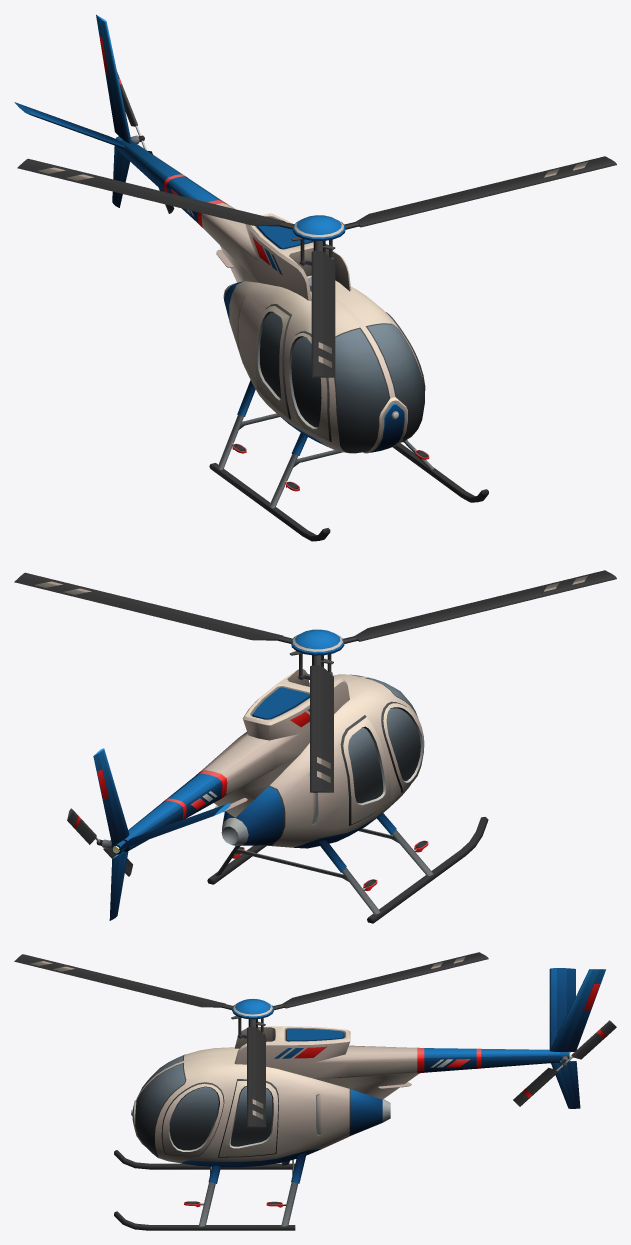
File: Service_Helicopter_1A.fbx
3 renders of one model, top to bottom at view 1: azimuth 30°, elevation 25°; view 2: azimuth 150°, elevation 25°; view 3: azimuth 270°, elevation 25°, orthographic. The views are drawn at different scales.
Parts seen in each view (by area): view 1: Service_Helicopter_1A, Main_Rotor_2A; view 2: Service_Helicopter_1A, Main_Rotor_2A, Tail_Rotor_2A; view 3: Service_Helicopter_1A, Main_Rotor_2A, Tail_Rotor_2A.
Part boxes in pixels (bbox=[...]): Service_Helicopter_1A: bbox=[14, 14, 488, 541]; Main_Rotor_2A: bbox=[17, 156, 616, 377]; Service_Helicopter_1A: bbox=[93, 669, 488, 923]; Main_Rotor_2A: bbox=[14, 570, 616, 792]; Tail_Rotor_2A: bbox=[67, 808, 132, 876]; Service_Helicopter_1A: bbox=[114, 968, 605, 1230]; Main_Rotor_2A: bbox=[14, 952, 488, 1127]; Tail_Rotor_2A: bbox=[513, 1020, 616, 1106].
Size of the model in its own units: 637 by 390 by 927.
